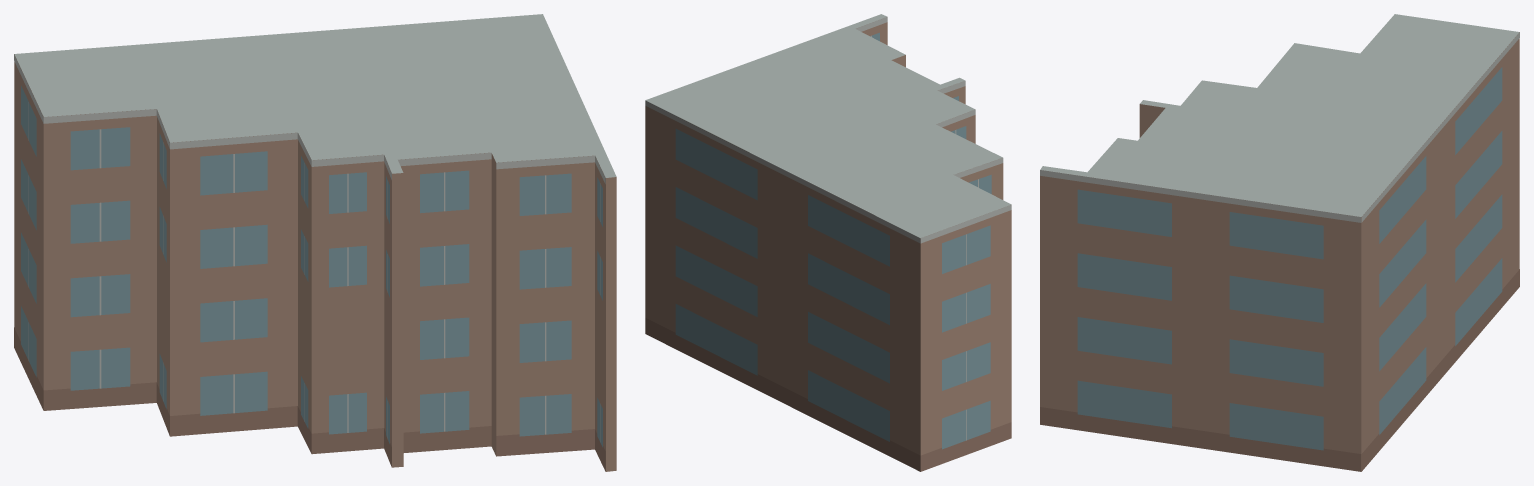
The model's file is survey-upis-32685871.glb.
3 views of the same model, side by side, from view 1: azimuth 30°, elevation 25°; view 2: azimuth 150°, elevation 25°; view 3: azimuth 270°, elevation 25° (orthographic). The views are drawn at different scales.
Visible parts, largest first — view 1: survey-upis-32685871.tmp; view 2: survey-upis-32685871.tmp; view 3: survey-upis-32685871.tmp.
Part boxes in pixels (x1,y1,x2,y2): survey-upis-32685871.tmp: (14,14,616,471); survey-upis-32685871.tmp: (645,14,1011,471); survey-upis-32685871.tmp: (1040,14,1519,471).
Size of the model in its own units: 18.13 by 10.6 by 18.09.
